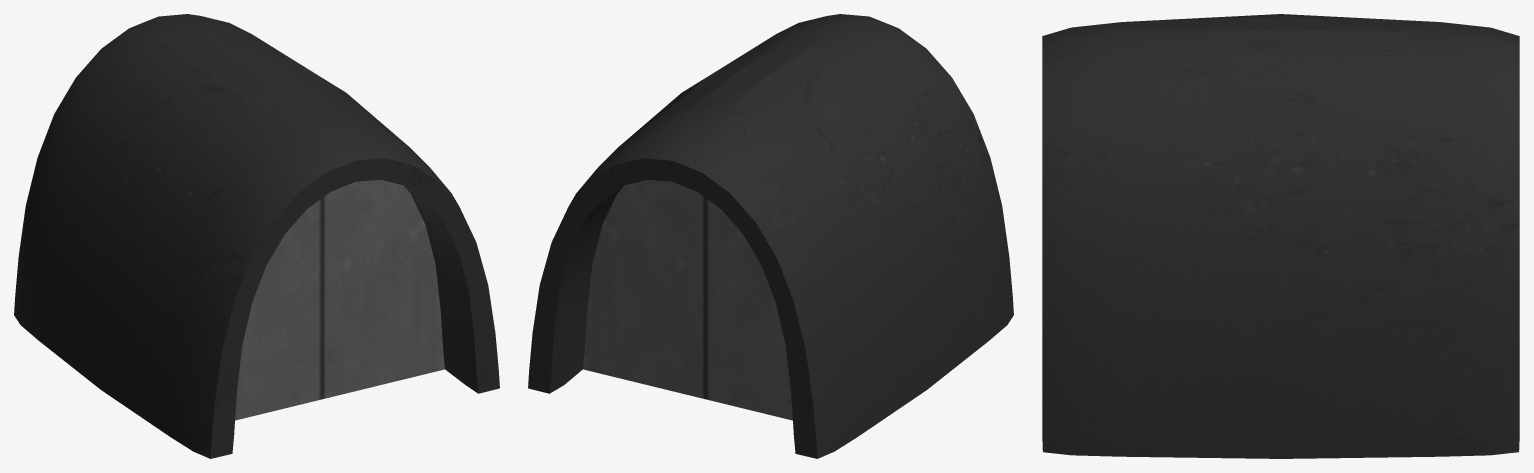
Rendered from domeDoor.fbx.
The picture shows the model from 3 angles, left to right: view 1: azimuth 30°, elevation 25°; view 2: azimuth 150°, elevation 25°; view 3: azimuth 270°, elevation 25°; orthographic projection. The views are drawn at different scales.
Parts seen in each view (by area): view 1: pCube3; view 2: pCube3; view 3: pCube3.
Boxes of the visible parts, x1,y1,x2,y2 form: pCube3: (14,14,499,458); pCube3: (528,14,1013,458); pCube3: (1042,14,1519,458).
Bounding box in the file's own units: 102 × 87.02 × 111.
